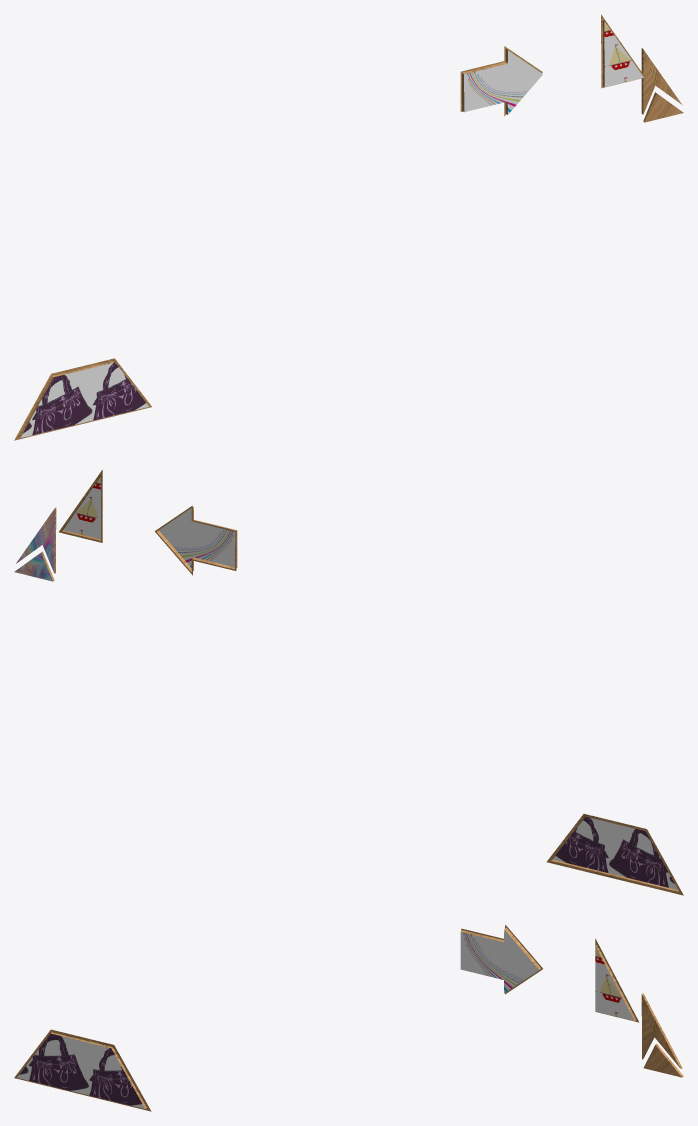
Rendered from slots_new3.fbx.
3 renders of one model, top to bottom at view 1: azimuth 30°, elevation 25°; view 2: azimuth 150°, elevation 25°; view 3: azimuth 330°, elevation 25°, orthographic.
Visible parts, largest first — view 1: slot_trapezoid, slot_arrow, slot_righttriangle, Circle.002; view 2: slot_trapezoid, slot_arrow, slot_righttriangle, Circle.002; view 3: slot_trapezoid, slot_arrow, slot_righttriangle, Circle.002, Circle.001.
Boxes of the visible parts, <box> form: slot_trapezoid: <box>14,358,151,440</box>; slot_arrow: <box>460,46,542,116</box>; slot_righttriangle: <box>601,14,645,88</box>; Circle.002: <box>641,48,681,114</box>; slot_trapezoid: <box>546,814,683,895</box>; slot_arrow: <box>154,505,237,575</box>; slot_righttriangle: <box>59,470,102,542</box>; Circle.002: <box>16,507,56,573</box>; slot_trapezoid: <box>14,1029,151,1111</box>; slot_arrow: <box>460,925,542,994</box>; slot_righttriangle: <box>595,938,639,1022</box>; Circle.002: <box>641,993,682,1068</box>; Circle.001: <box>643,1044,683,1077</box>.
Size of the model in its own units: 1917 by 777 by 27.52.
9 materials, 9 textured.
